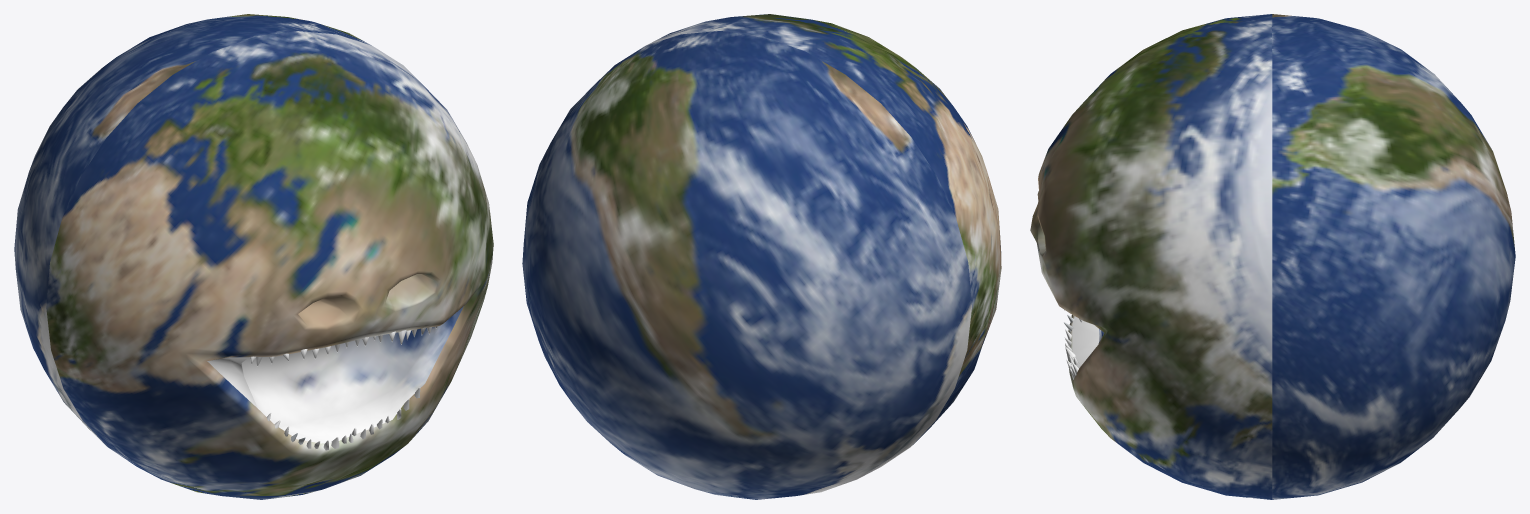
The model's file is earth_woke_up.glb.
3 renders of one model, left to right at view 1: azimuth 30°, elevation 25°; view 2: azimuth 150°, elevation 25°; view 3: azimuth 270°, elevation 25°, orthographic.
Parts seen in each view (by area): view 1: Moon WokeUp; view 2: Moon WokeUp; view 3: Moon WokeUp.
Boxes of the visible parts, x1,y1,x2,y2 form: Moon WokeUp: (14, 14, 493, 499); Moon WokeUp: (522, 14, 1001, 499); Moon WokeUp: (1030, 14, 1515, 499).
Size of the model in its own units: 0.0198 by 0.02 by 0.0199.
Materials: 1 (1 with a texture image).
